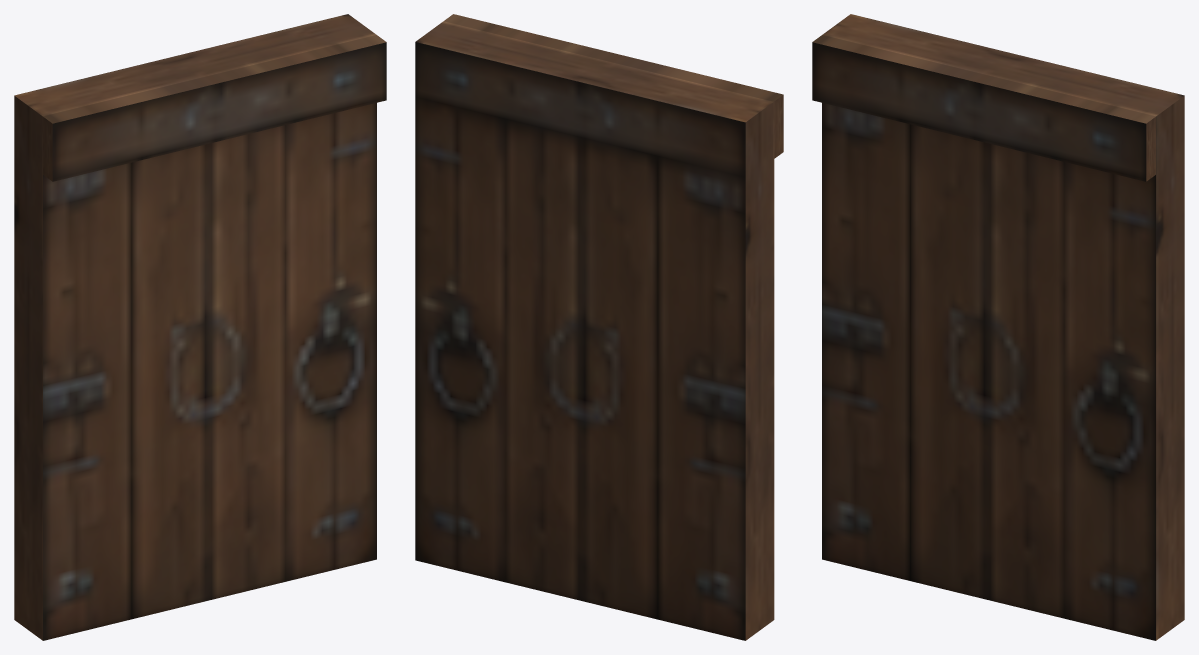
File: Door.glb
The picture shows the model from 3 angles, left to right: view 1: azimuth 30°, elevation 25°; view 2: azimuth 150°, elevation 25°; view 3: azimuth 330°, elevation 25°; orthographic projection.
Visible parts, largest first — view 1: Plane; view 2: Plane; view 3: Plane.
Boxes of the visible parts, box(x1,y1,x2,y2) form: Plane: box(14, 14, 386, 640); Plane: box(415, 14, 783, 640); Plane: box(812, 14, 1184, 640).
Size of the model in its own units: 2 by 3 by 0.4.
Materials: 1 (1 with a texture image).
